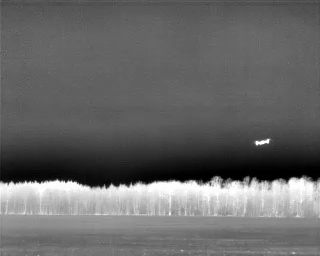DRONE: (250, 134, 275, 150)
